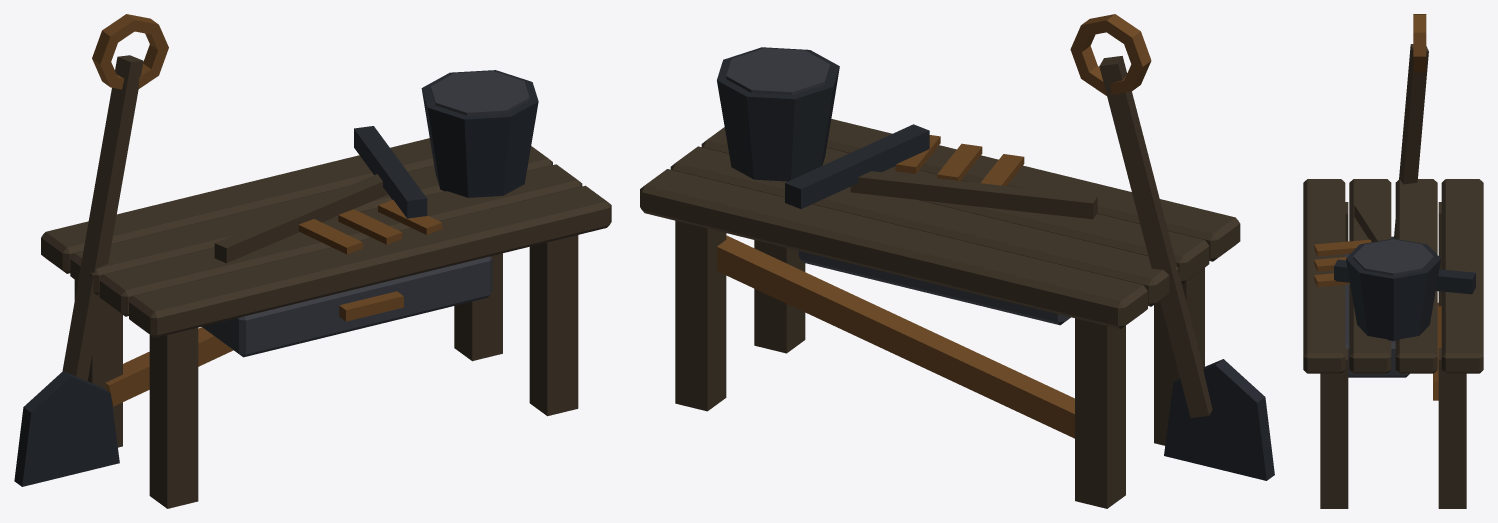
The model's file is Gravedigger_Bench.glb.
The picture shows the model from 3 angles, left to right: view 1: azimuth 30°, elevation 25°; view 2: azimuth 150°, elevation 25°; view 3: azimuth 270°, elevation 25°; orthographic projection. The views are drawn at different scales.
Visible parts, largest first — view 1: Gravedigger_Bench; view 2: Gravedigger_Bench; view 3: Gravedigger_Bench.
Boxes of the visible parts, x1,y1,x2,y2 form: Gravedigger_Bench: (14, 14, 611, 508); Gravedigger_Bench: (640, 14, 1274, 508); Gravedigger_Bench: (1303, 14, 1483, 508).
Size of the model in its own units: 2.99 by 2.32 by 1.09.
